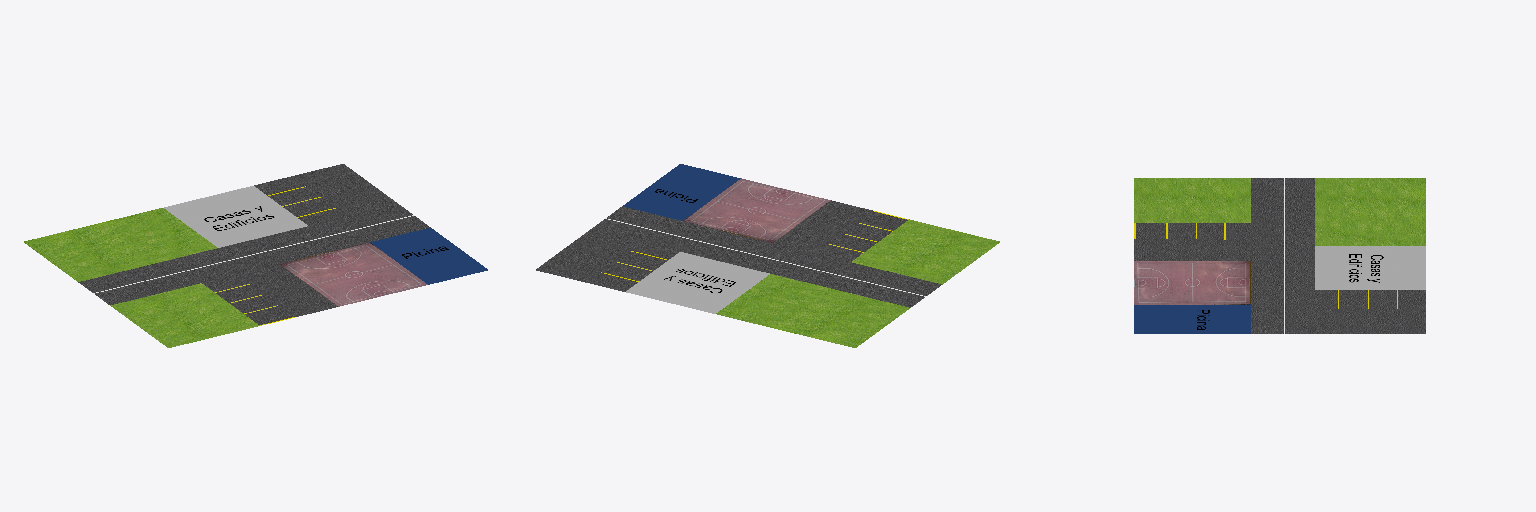
The picture shows the model from 3 angles: view 1: azimuth 30°, elevation 25°; view 2: azimuth 150°, elevation 25°; view 3: azimuth 270°, elevation 25°; orthographic projection.
Parts seen in each view (by area): view 1: Plane001; view 2: Plane001; view 3: Plane001.
Part boxes in pixels (x1,y1,x2,y2): Plane001: (24, 164, 487, 347); Plane001: (536, 164, 999, 347); Plane001: (1134, 178, 1425, 333).
Size of the model in its own units: 72.43 by 0 by 56.96.
Materials: 1 (1 with a texture image).